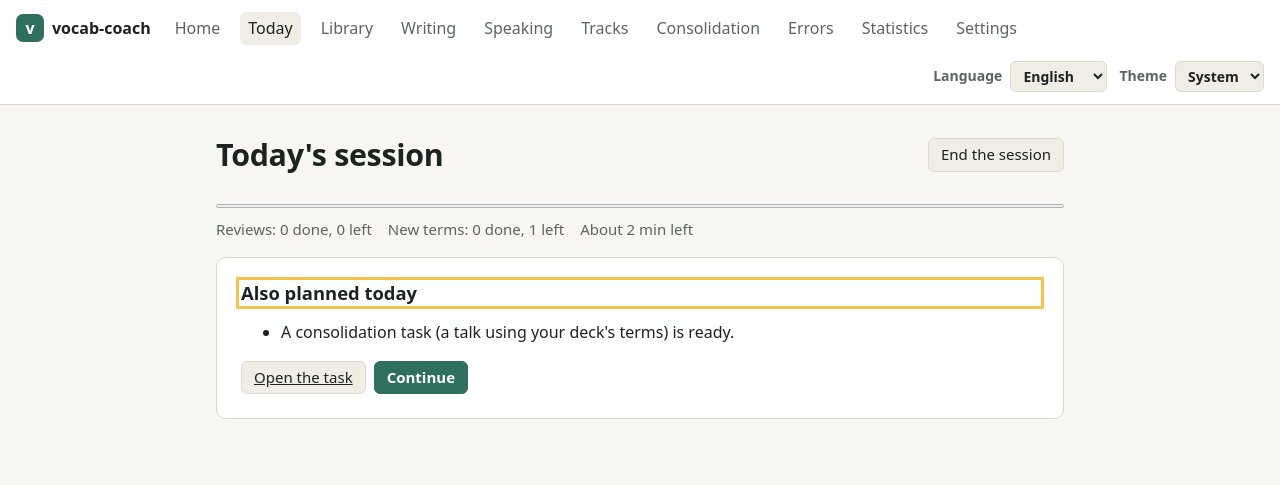
Test: Session page › sends practice_seen=true after the practice information, then ends the session once
Expected: the list item "A consolidation task" is shown, [281,321,734,343]
Click the button "Continue" at (421, 378), box [374,361,468,394]
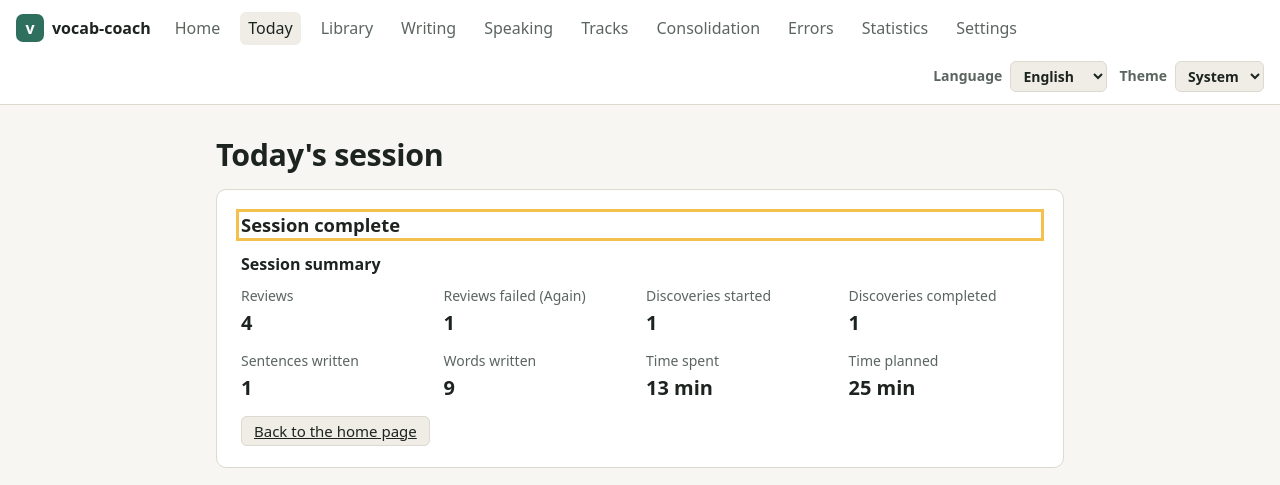
Now the heading "Session summary" is shown, box [241,253,381,275]
